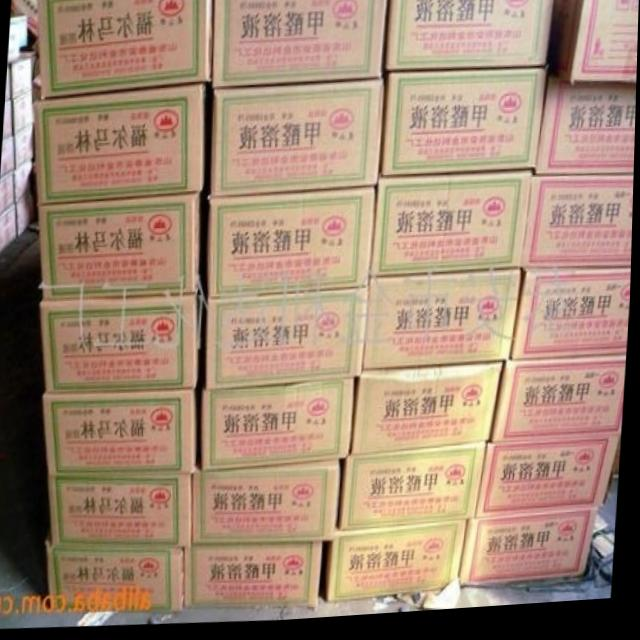box: (34, 86, 204, 205), (211, 84, 385, 200), (208, 190, 376, 299), (36, 0, 213, 101), (371, 176, 535, 283), (382, 76, 547, 182), (39, 197, 201, 300), (208, 291, 371, 393), (42, 294, 201, 396), (365, 275, 524, 375), (213, 0, 387, 91), (204, 382, 357, 477), (44, 391, 200, 479), (353, 369, 505, 459), (341, 449, 492, 537), (387, 0, 556, 76), (478, 442, 624, 527), (48, 527, 189, 614), (195, 464, 342, 547), (327, 528, 472, 608), (494, 363, 628, 448), (50, 476, 196, 552), (513, 275, 633, 367), (461, 516, 602, 593), (524, 181, 635, 275), (535, 85, 637, 182), (186, 545, 327, 612), (548, 0, 639, 92)
